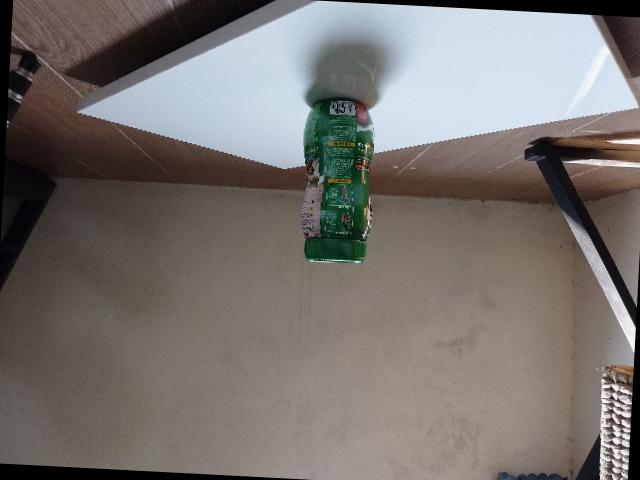milo: (299, 95, 374, 262)
